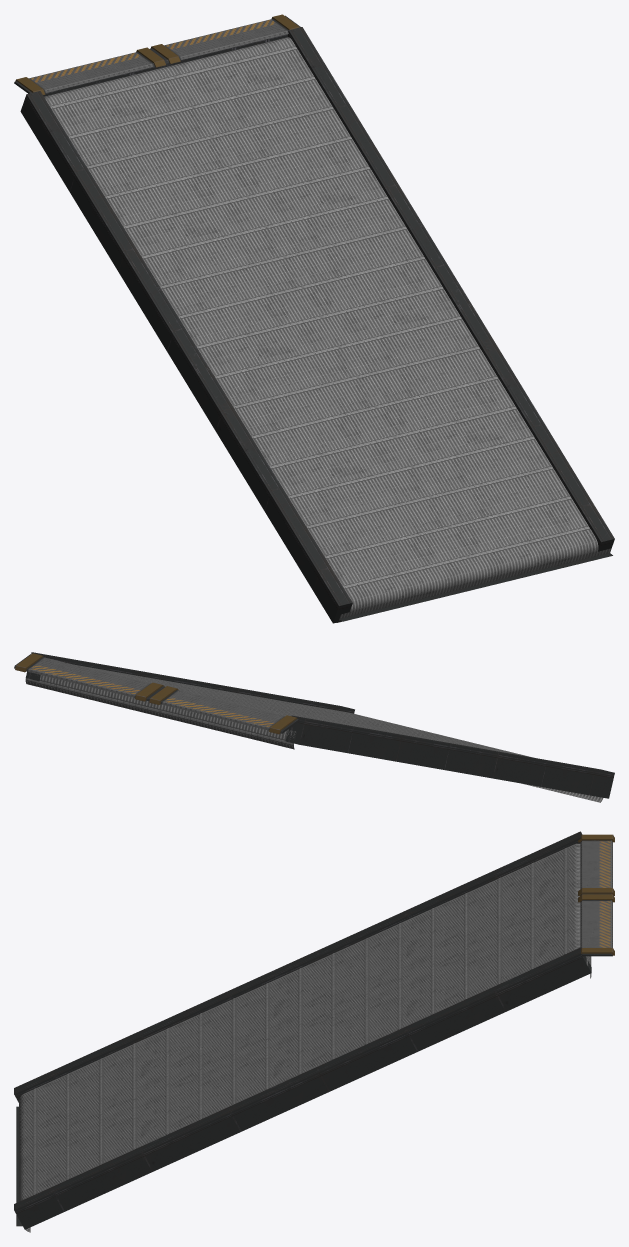
The model's file is Subway_Stairs_Escalator1B.fbx.
The picture shows the model from 3 angles, top to bottom: view 1: azimuth 30°, elevation 25°; view 2: azimuth 150°, elevation 25°; view 3: azimuth 270°, elevation 25°; orthographic projection. The views are drawn at different scales.
Parts seen in each view (by area): view 1: polySurface797; view 2: polySurface797; view 3: polySurface797.
Boxes of the visible parts, x1,y1,x2,y2 form: polySurface797: [14, 14, 614, 623]; polySurface797: [14, 652, 614, 802]; polySurface797: [14, 831, 614, 1232].
Size of the model in its own units: 204 by 218 by 424.
